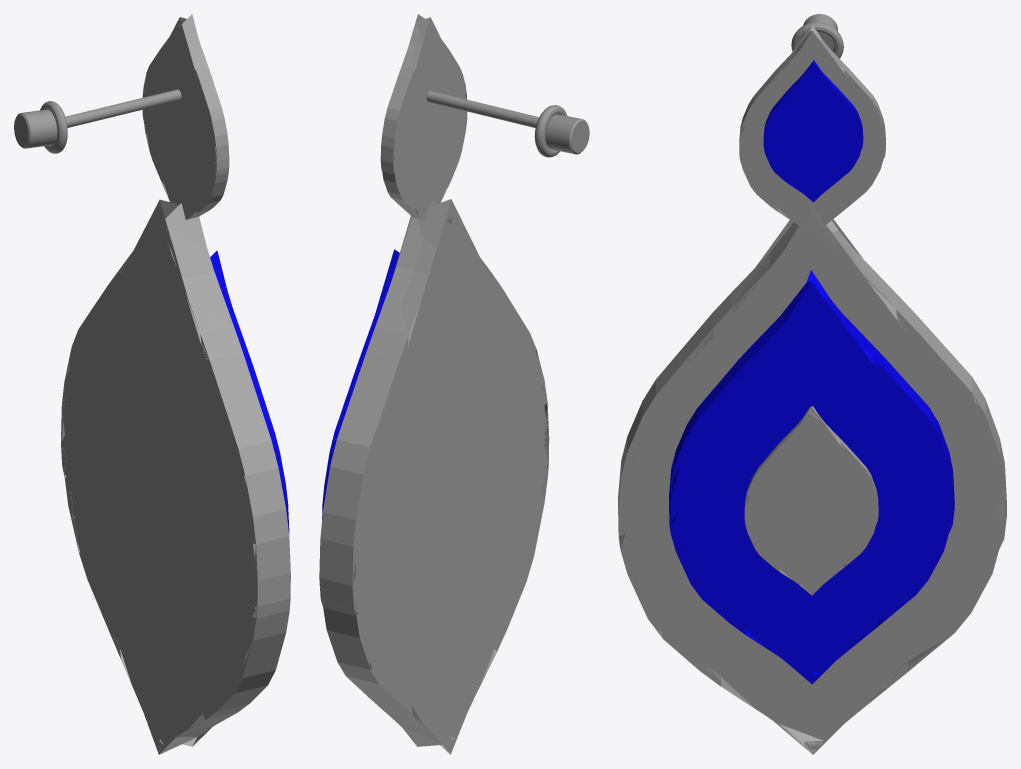
The model's file is silverleaf.glb.
The picture shows the model from 3 angles, left to right: view 1: azimuth 30°, elevation 25°; view 2: azimuth 150°, elevation 25°; view 3: azimuth 270°, elevation 25°; orthographic projection.
Visible parts, largest first — view 1: Plane, Plane.003, Plane.001, Cylinder.001, Cylinder, Torus; view 2: Plane, Plane.003, Cylinder.001, Cylinder, Plane.001, Torus; view 3: Plane, Plane.001, Plane.004, Plane.003, Plane.002, Torus.
Part boxes in pixels (box(x1,y1,x2,y2)): Plane: box(61, 199, 290, 754); Plane.003: box(142, 14, 229, 219); Plane.001: box(210, 250, 289, 534); Cylinder.001: box(14, 109, 57, 148); Cylinder: box(65, 89, 181, 127); Torus: box(40, 101, 67, 153); Plane: box(319, 199, 549, 754); Plane.003: box(380, 14, 467, 219); Cylinder.001: box(545, 114, 589, 154); Cylinder: box(426, 90, 538, 127); Plane.001: box(322, 249, 399, 519); Torus: box(534, 105, 567, 157); Plane: box(618, 206, 1006, 754); Plane.001: box(669, 270, 954, 684); Plane.004: box(744, 406, 878, 595); Plane.003: box(739, 25, 885, 225); Plane.002: box(763, 60, 863, 202); Torus: box(791, 22, 843, 58).
Bounding box in the file's own units: 0.5169 × 1.82 × 0.8837.
